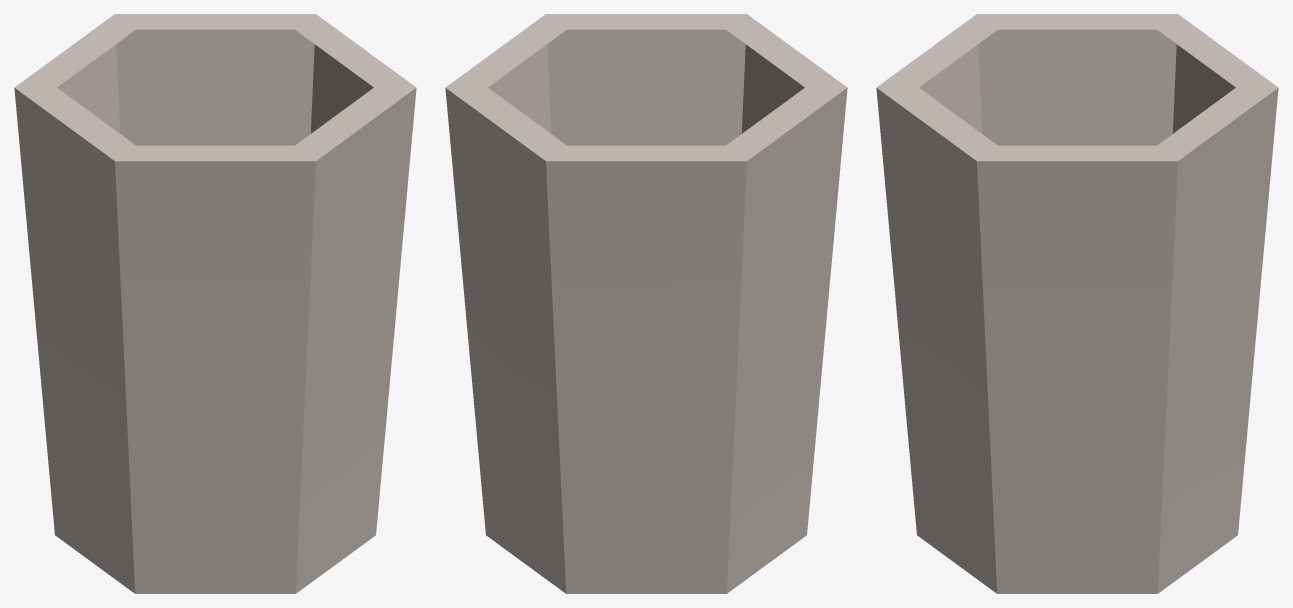
File: glass_full.fbx
The picture shows the model from 3 angles, left to right: view 1: azimuth 30°, elevation 25°; view 2: azimuth 150°, elevation 25°; view 3: azimuth 270°, elevation 25°; orthographic projection.
Visible parts, largest first — view 1: Cylinder; view 2: Cylinder; view 3: Cylinder.
Boxes of the visible parts, x1=… form: Cylinder: x1=14, y1=14, x2=416, y2=593; Cylinder: x1=445, y1=14, x2=847, y2=593; Cylinder: x1=876, y1=14, x2=1278, y2=593.
Size of the model in its own units: 173 by 246 by 200.
2 materials, 2 textured.
